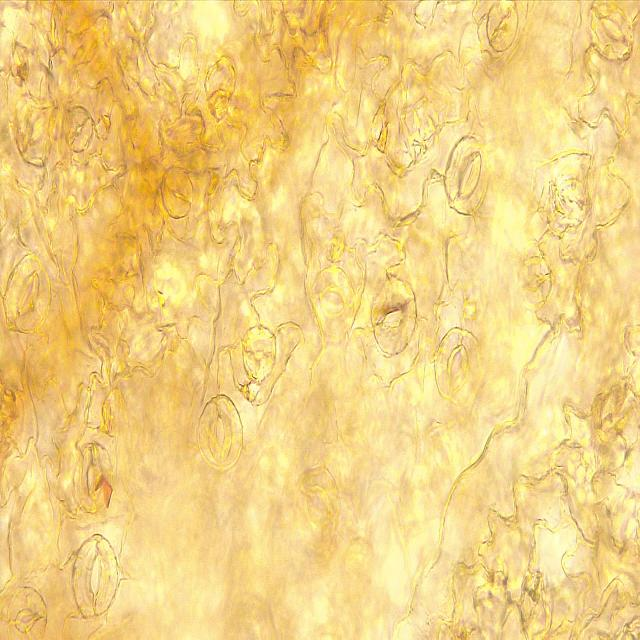Stomata: (2, 250, 52, 336), (73, 531, 120, 620), (370, 276, 418, 358), (294, 465, 341, 548), (433, 326, 481, 407), (443, 134, 490, 215), (197, 393, 244, 472), (311, 264, 357, 338), (71, 438, 114, 516), (588, 0, 634, 62), (7, 584, 48, 640), (158, 164, 195, 220), (241, 324, 278, 380), (516, 256, 552, 311), (486, 1, 519, 52), (64, 104, 93, 154)
